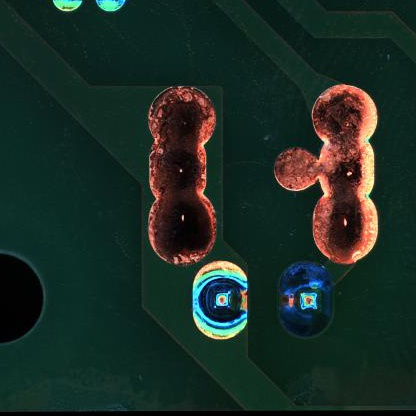spot: (276, 261, 335, 340), (191, 260, 248, 339)
